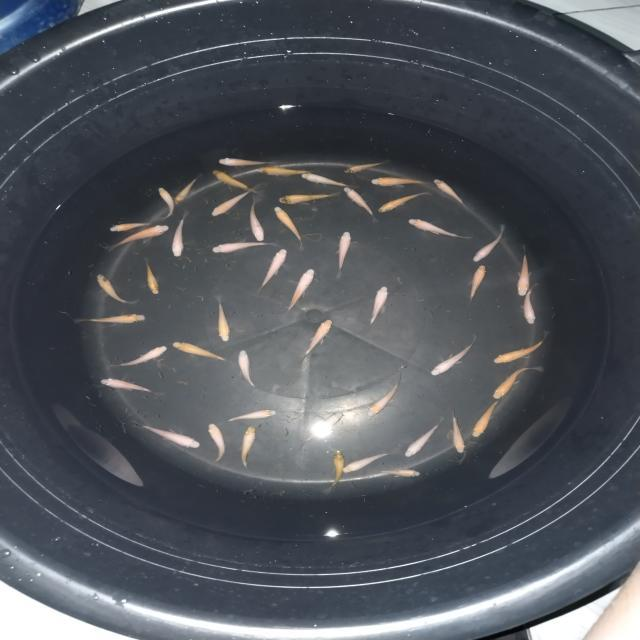nila: (108, 223, 176, 256), (207, 184, 267, 220), (170, 335, 230, 370), (491, 361, 544, 400), (362, 373, 405, 418), (468, 220, 514, 262), (429, 172, 476, 212), (254, 245, 297, 288), (140, 422, 200, 452), (428, 343, 476, 379), (404, 215, 468, 242), (492, 338, 550, 367), (284, 264, 324, 306), (374, 190, 430, 220), (91, 270, 135, 308), (96, 372, 160, 398), (112, 342, 170, 369), (300, 317, 335, 361), (470, 396, 503, 442), (512, 245, 540, 298), (399, 423, 437, 462), (340, 184, 378, 222), (272, 206, 308, 246), (71, 311, 152, 328), (211, 164, 253, 196), (232, 346, 260, 393), (342, 446, 388, 474), (364, 284, 392, 330), (298, 166, 347, 192), (257, 160, 318, 179), (466, 266, 493, 306), (172, 176, 204, 209), (369, 172, 427, 190), (205, 421, 228, 466), (339, 154, 385, 176), (212, 238, 272, 254), (226, 407, 279, 425), (446, 417, 470, 456), (169, 212, 189, 258), (142, 260, 166, 298), (276, 192, 341, 206), (334, 229, 354, 274), (326, 446, 346, 490), (213, 300, 233, 344), (246, 198, 266, 240), (237, 424, 256, 467), (216, 155, 270, 170), (521, 280, 538, 326), (154, 186, 177, 218), (105, 220, 152, 233), (378, 467, 426, 478)
